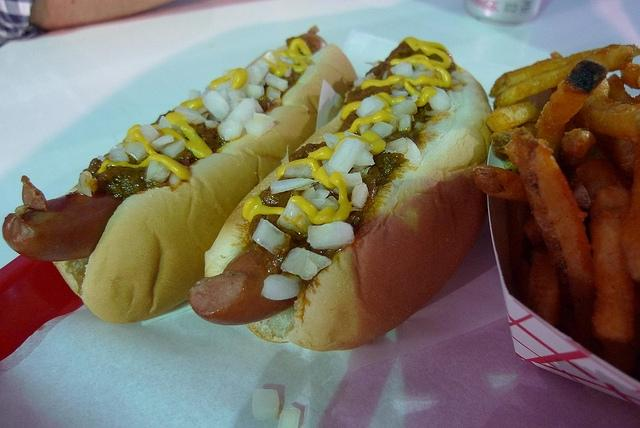onion: (280, 247, 332, 280), (217, 98, 255, 142), (262, 272, 312, 300), (276, 200, 312, 238), (328, 138, 366, 174), (307, 222, 355, 249), (252, 217, 286, 254), (252, 388, 280, 420), (202, 89, 230, 120), (270, 178, 319, 194), (428, 86, 452, 112), (245, 60, 269, 86), (174, 106, 207, 124), (278, 404, 301, 428), (350, 182, 369, 210), (403, 138, 422, 166), (246, 120, 276, 137), (148, 160, 170, 183), (138, 124, 160, 146), (125, 141, 148, 162), (356, 98, 380, 118), (390, 100, 418, 117), (150, 134, 174, 153), (161, 140, 186, 158), (369, 121, 394, 138), (213, 74, 234, 94), (266, 73, 288, 92), (384, 137, 408, 154), (284, 164, 312, 178), (354, 148, 375, 166), (341, 172, 363, 188), (106, 148, 130, 162), (390, 62, 412, 77), (246, 83, 264, 99), (262, 50, 279, 66), (324, 133, 342, 148), (226, 88, 248, 100), (266, 86, 282, 101), (398, 114, 412, 131), (306, 198, 326, 209), (188, 89, 202, 100), (416, 64, 427, 70)
